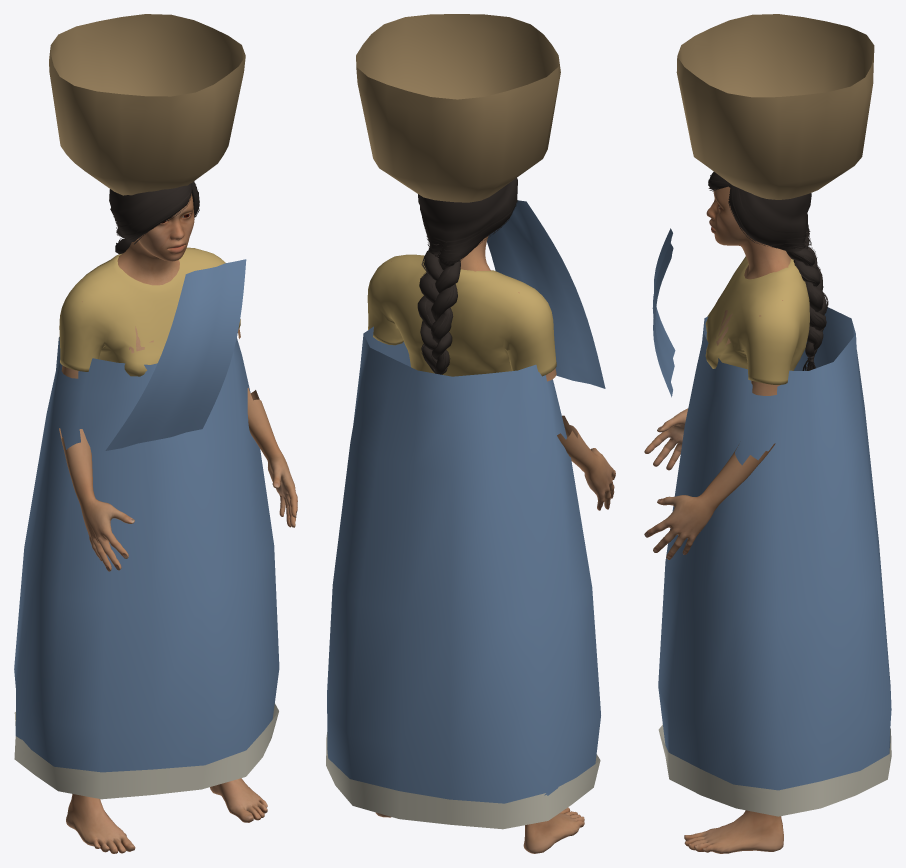
Rendered from village_fruit_seller.glb.
3 views of the same model, side by side, from view 1: azimuth 30°, elevation 25°; view 2: azimuth 150°, elevation 25°; view 3: azimuth 270°, elevation 25° (orthographic). The views are drawn at different scales.
Parts seen in each view (by area): view 1: Wrapped sari lower drape_static_preview, Fruit seller head basket_static_preview, village_fruit_seller_MakeHuman_body_static_preview, Woven sari pallu over blouse_static_preview, Fitted cotton upper base_static_preview, Sari lower border_static_preview, Farmer_hair_static_preview; view 2: Wrapped sari lower drape_static_preview, Fruit seller head basket_static_preview, Fitted cotton upper base_static_preview, Farmer_hair_static_preview, Woven sari pallu over blouse_static_preview, Sari lower border_static_preview, village_fruit_seller_MakeHuman_body_static_preview; view 3: Wrapped sari lower drape_static_preview, Fruit seller head basket_static_preview, village_fruit_seller_MakeHuman_body_static_preview, Fitted cotton upper base_static_preview, Farmer_hair_static_preview, Sari lower border_static_preview, Woven sari pallu over blouse_static_preview.
Part boxes in pixels (x1=…): Wrapped sari lower drape_static_preview: x1=14, y1=337, x2=279, y2=772; Fruit seller head basket_static_preview: x1=49, y1=14, x2=245, y2=195; village_fruit_seller_MakeHuman_body_static_preview: x1=59, y1=193, x2=297, y2=853; Woven sari pallu over blouse_static_preview: x1=105, y1=259, x2=246, y2=450; Fitted cotton upper base_static_preview: x1=59, y1=247, x2=240, y2=376; Sari lower border_static_preview: x1=14, y1=703, x2=278, y2=799; Farmer_hair_static_preview: x1=109, y1=181, x2=199, y2=254; Wrapped sari lower drape_static_preview: x1=327, y1=326, x2=600, y2=803; Fruit seller head basket_static_preview: x1=356, y1=14, x2=560, y2=202; Fitted cotton upper base_static_preview: x1=367, y1=254, x2=556, y2=376; Farmer_hair_static_preview: x1=417, y1=178, x2=517, y2=374; Woven sari pallu over blouse_static_preview: x1=487, y1=200, x2=605, y2=388; Sari lower border_static_preview: x1=326, y1=732, x2=600, y2=829; village_fruit_seller_MakeHuman_body_static_preview: x1=375, y1=235, x2=615, y2=853; Wrapped sari lower drape_static_preview: x1=658, y1=307, x2=891, y2=790; Fruit seller head basket_static_preview: x1=676, y1=14, x2=874, y2=199; village_fruit_seller_MakeHuman_body_static_preview: x1=644, y1=186, x2=790, y2=853; Fitted cotton upper base_static_preview: x1=705, y1=256, x2=809, y2=384; Farmer_hair_static_preview: x1=708, y1=172, x2=828, y2=370; Sari lower border_static_preview: x1=658, y1=724, x2=891, y2=816; Woven sari pallu over blouse_static_preview: x1=652, y1=228, x2=675, y2=397.
Size of the model in its own units: 0.5486 by 1.65 by 0.4868.
7 materials, 2 textured.
